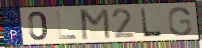0: (27, 10, 49, 42)
2: (111, 7, 137, 40)
G: (167, 6, 193, 38)
L: (139, 7, 164, 38), (54, 10, 78, 41)
M: (80, 7, 112, 41)
